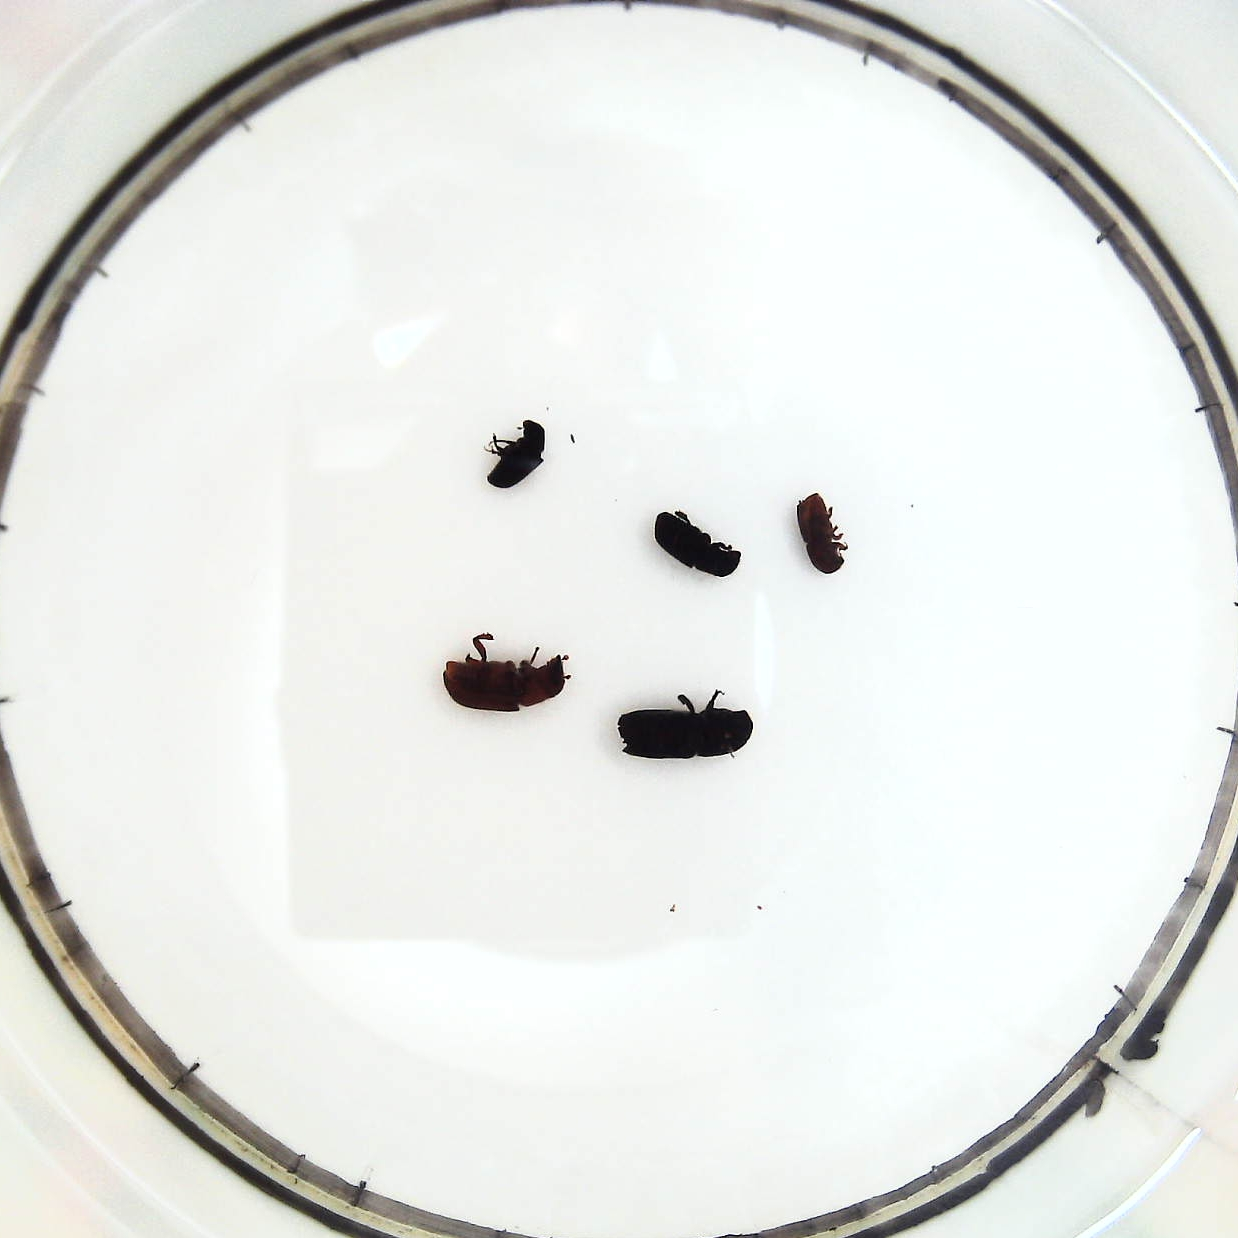Boerner: (614, 680, 758, 770)
Leconte: (439, 622, 573, 724)
armandi: (648, 504, 744, 585)
coleoptera: (480, 412, 552, 490)
linnaeus: (790, 487, 849, 583)
